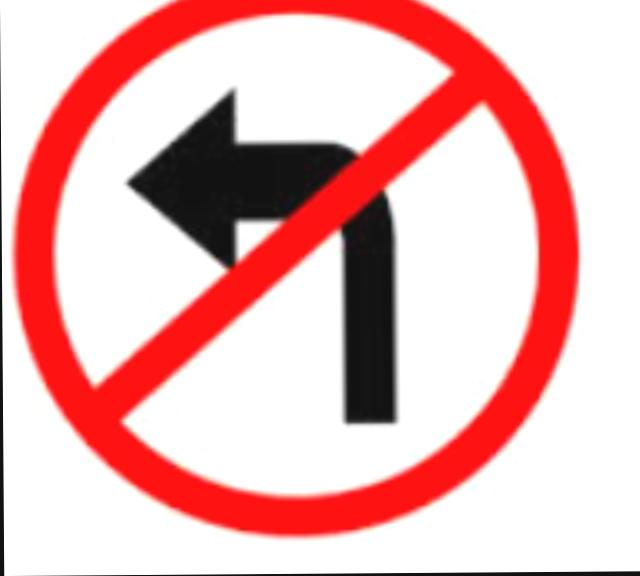not_turn_left: (35, 0, 588, 540)
